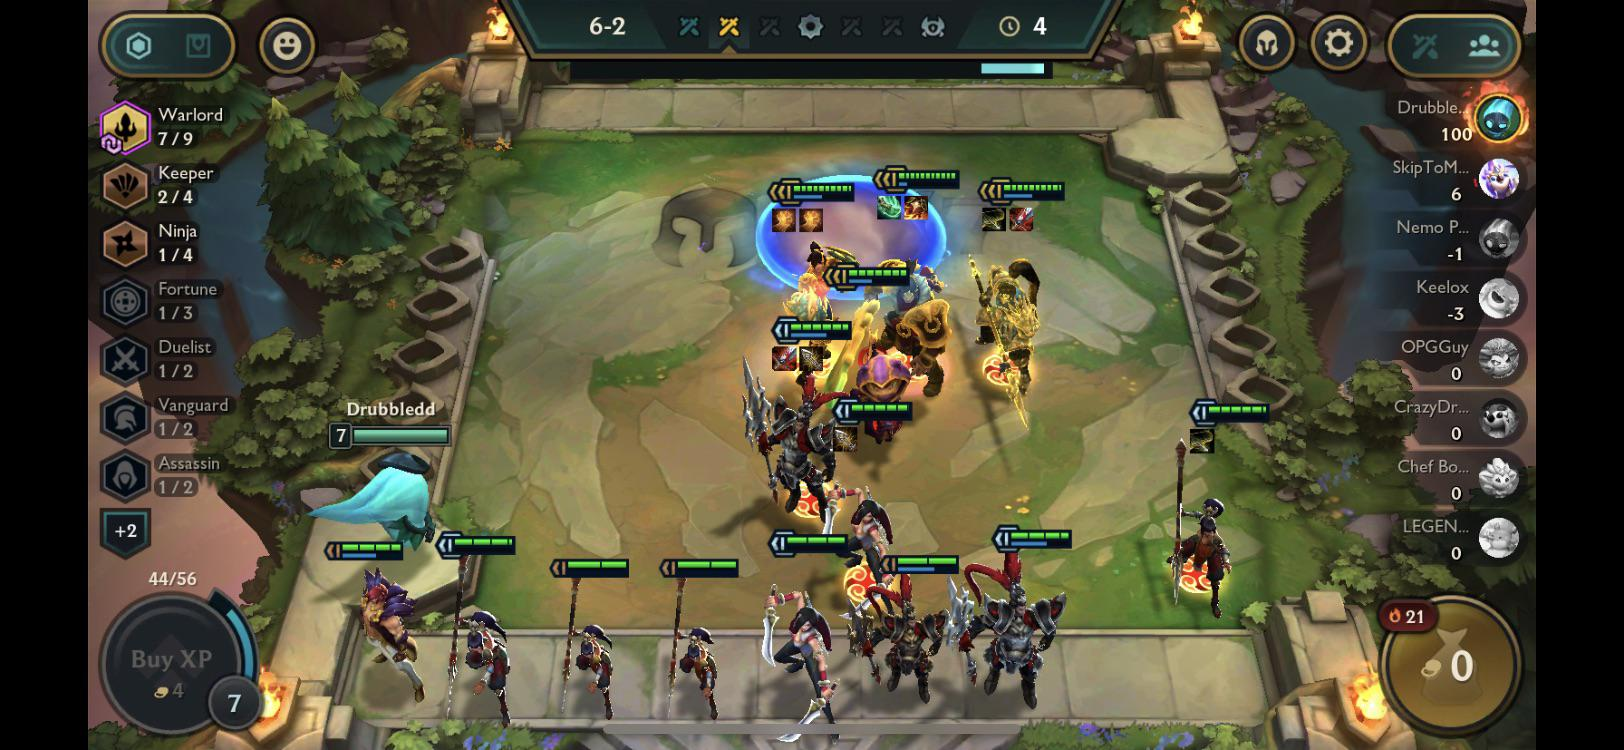1star_jarvaniv: (832, 542, 966, 733)
1star_nidalee: (530, 531, 650, 732), (639, 532, 759, 733)
1star_sett: (314, 520, 434, 721)
2star_jarvaniv: (730, 306, 866, 559), (935, 504, 1079, 725)
2star_katarina: (750, 514, 863, 744), (813, 397, 926, 627)
2star_nidalee: (1154, 386, 1286, 630), (431, 521, 528, 740)
3star_garen: (798, 156, 974, 431)
3star_kennen: (818, 255, 920, 461)
3star_vi: (753, 170, 866, 408)
3star_xinzhao: (954, 165, 1079, 438)
item_bow: (1186, 423, 1219, 457), (976, 201, 1009, 235)
item_bt: (1005, 202, 1038, 236), (769, 340, 801, 374)
item_hoj: (794, 204, 827, 238), (769, 204, 801, 238)
item_ie: (828, 422, 861, 456), (795, 342, 828, 376)
item_shojin: (874, 189, 907, 223)
item_sunfire: (899, 190, 932, 224)
trait_assassin1: (89, 440, 252, 506)
trait_duelist1: (89, 326, 252, 392)
trait_fortune1: (90, 267, 253, 333)
trait_keeper2: (89, 152, 252, 218)
trait_ninja1: (89, 207, 252, 273)
trait_vanguard1: (90, 382, 253, 448)
trait_warlord7: (88, 95, 251, 161)
trait_warlord_chosen: (95, 94, 157, 158)
